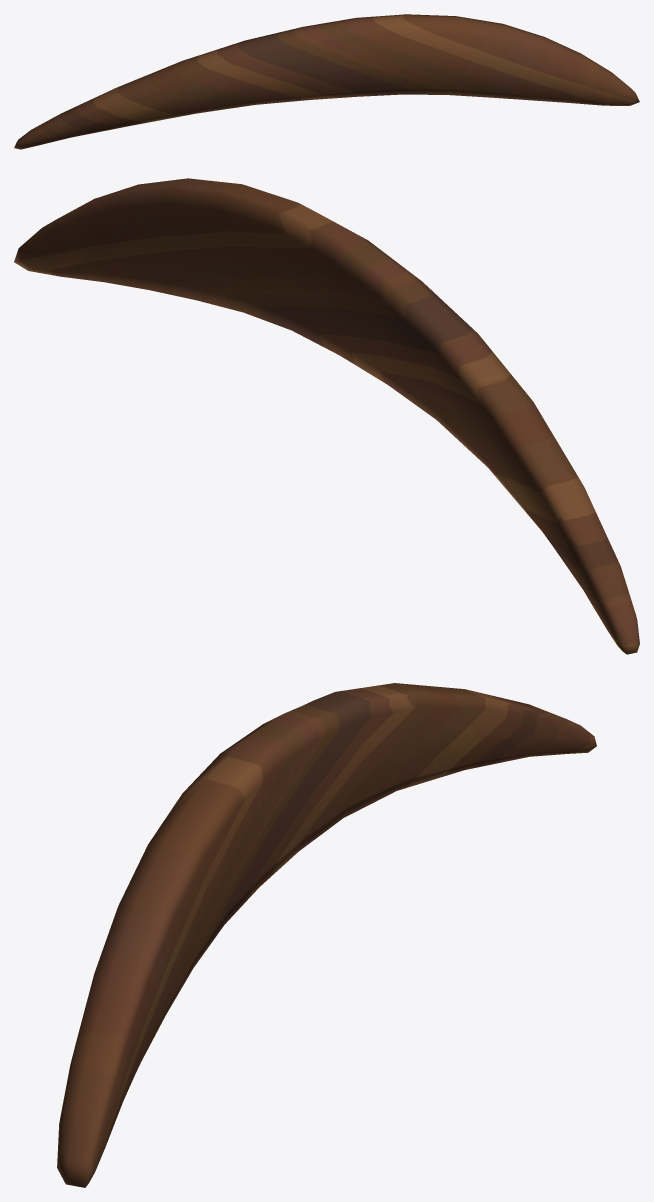
The model's file is JOJO_brow_R.FBX.
3 views of the same model, one above another, from view 1: azimuth 30°, elevation 25°; view 2: azimuth 150°, elevation 25°; view 3: azimuth 270°, elevation 25° (orthographic). The views are drawn at different scales.
Parts seen in each view (by area): view 1: JOJO_brow_R; view 2: JOJO_brow_R; view 3: JOJO_brow_R.
Part boxes in pixels (bbox=[...]): JOJO_brow_R: bbox=[14, 14, 639, 149]; JOJO_brow_R: bbox=[14, 178, 639, 654]; JOJO_brow_R: bbox=[57, 683, 596, 1187].
Bounding box in the file's own units: 6.89 × 1.68 × 3.24.
